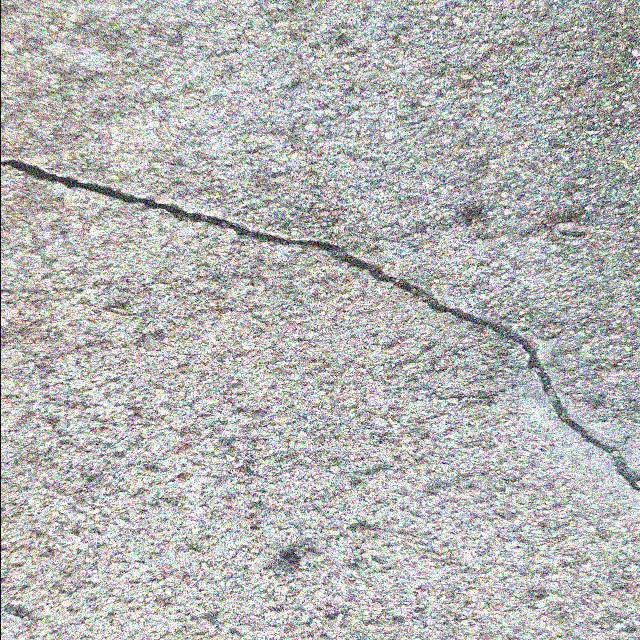SurfaceCrack: (3, 28, 640, 626)
